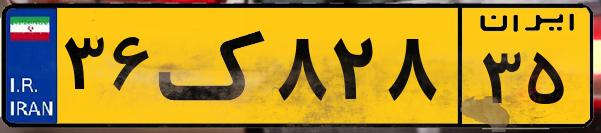2: (330, 28, 385, 110)
3: (57, 26, 110, 100), (475, 38, 525, 113)
5: (525, 38, 570, 115)
6: (110, 28, 158, 98)
8: (270, 28, 330, 110), (385, 28, 445, 110)
ک: (158, 12, 270, 120)
